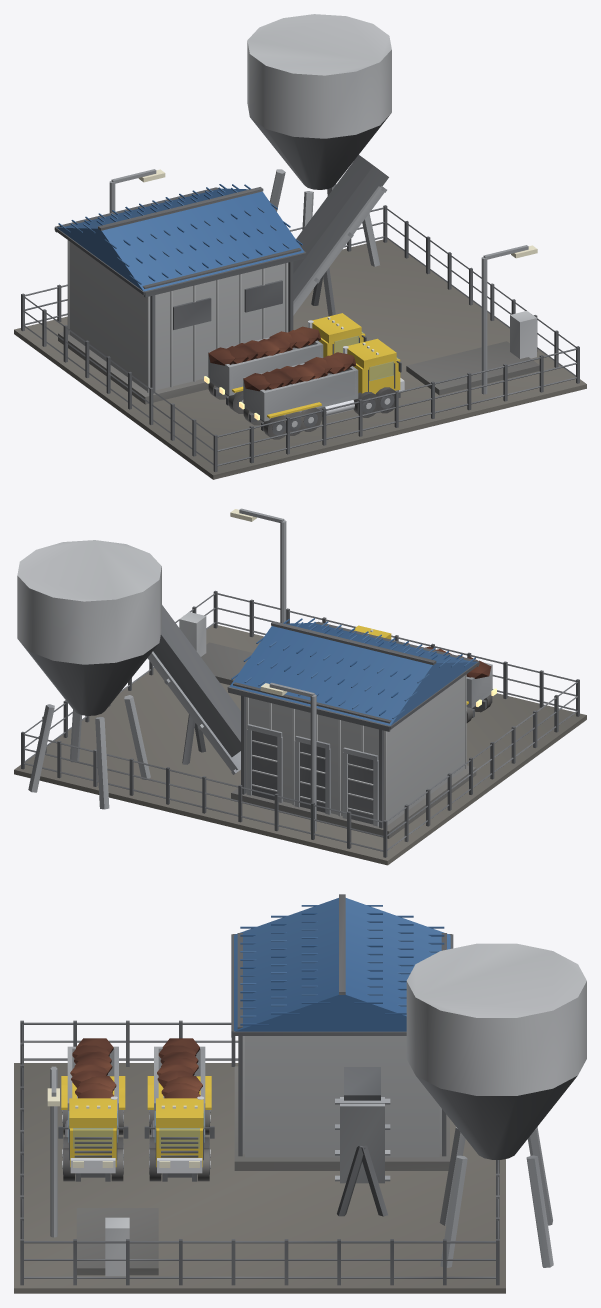
The model's file is Haul_P2.fbx.
3 renders of one model, top to bottom at view 1: azimuth 30°, elevation 25°; view 2: azimuth 150°, elevation 25°; view 3: azimuth 270°, elevation 25°, orthographic. The views are drawn at different scales.
Visible parts, largest first — view 1: Haul.Workshop, Haul.Yard, Haul.Hopper, Haul.Parked1, Haul.Fence, Haul.Conv, Haul.Parked0, Haul.Weighbridge, Haul.Lamp0, Haul.Lamp1; view 2: Haul.Workshop, Haul.Yard, Haul.Hopper, Haul.Fence, Haul.Conv, Haul.Weighbridge, Haul.Parked1, Haul.Lamp1, Haul.Lamp0; view 3: Haul.Yard, Haul.Workshop, Haul.Hopper, Haul.Fence, Haul.Parked0, Haul.Parked1, Haul.Conv, Haul.Weighbridge, Haul.Lamp0.
Part boxes in pixels (bbox=[...]): Haul.Workshop: bbox=[54, 184, 306, 404]; Haul.Yard: bbox=[14, 239, 586, 479]; Haul.Hopper: bbox=[247, 14, 391, 266]; Haul.Parked1: bbox=[239, 338, 404, 439]; Haul.Fence: bbox=[21, 205, 579, 472]; Haul.Conv: bbox=[293, 155, 388, 316]; Haul.Parked0: bbox=[204, 313, 366, 413]; Haul.Weighbridge: bbox=[406, 311, 539, 395]; Haul.Lamp0: bbox=[481, 245, 537, 394]; Haul.Lamp1: bbox=[109, 169, 165, 212]; Haul.Workshop: bbox=[227, 618, 479, 838]; Haul.Yard: bbox=[14, 625, 586, 865]; Haul.Hopper: bbox=[17, 540, 161, 809]; Haul.Fence: bbox=[21, 590, 579, 857]; Haul.Conv: bbox=[148, 605, 240, 774]; Haul.Weighbridge: bbox=[179, 612, 252, 684]; Haul.Parked1: bbox=[354, 625, 496, 722]; Haul.Lamp1: bbox=[260, 682, 316, 831]; Haul.Lamp0: bbox=[230, 508, 286, 623]; Haul.Yard: bbox=[14, 1063, 505, 1293]; Haul.Workshop: bbox=[231, 894, 453, 1170]; Haul.Hopper: bbox=[406, 943, 586, 1267]; Haul.Fence: bbox=[20, 1020, 499, 1285]; Haul.Parked0: bbox=[144, 1038, 214, 1181]; Haul.Parked1: bbox=[58, 1038, 128, 1181]; Haul.Conv: bbox=[335, 1067, 390, 1216]; Haul.Weighbridge: bbox=[76, 1208, 158, 1276]; Haul.Lamp0: bbox=[47, 1066, 59, 1237].
Bounding box in the file's own units: 2600 × 1456 × 2795.
